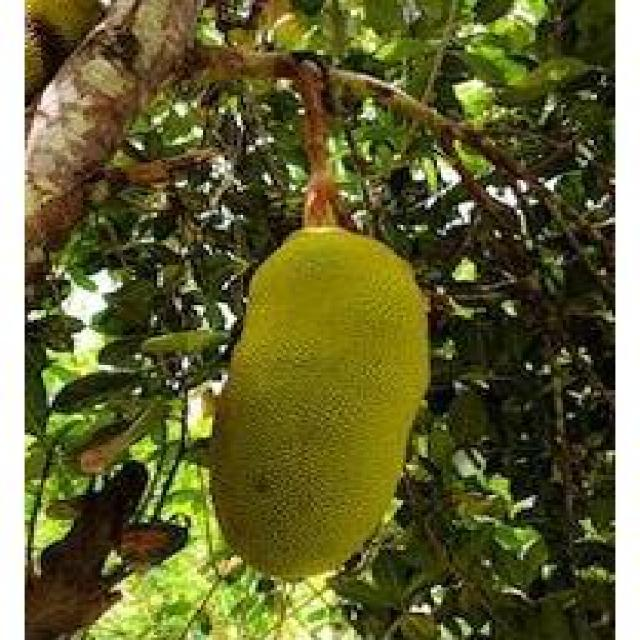Fruit: (182, 220, 458, 610)
